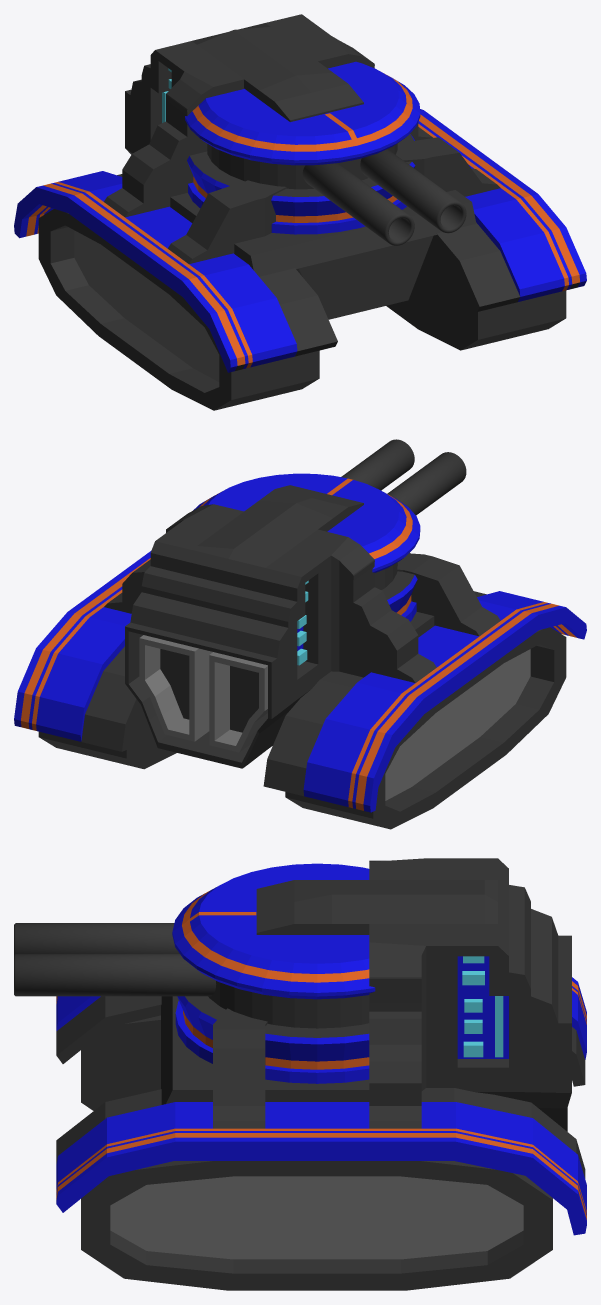
The model's file is Tanks.fbx.
3 views of the same model, one above another, from view 1: azimuth 30°, elevation 25°; view 2: azimuth 150°, elevation 25°; view 3: azimuth 270°, elevation 25° (orthographic). The views are drawn at different scales.
Visible parts, largest first — view 1: TankTop, TankDown.001, CanonG, CanonD; view 2: TankTop, TankDown.001, CanonG, CanonD; view 3: TankTop, TankDown.001, CanonD, CanonG.
Part boxes in pixels (left/top/right/bottom): TankTop: left=14, top=14, right=586, bottom=372; TankDown.001: left=38, top=209, right=566, bottom=410; CanonG: left=302, top=163, right=414, bottom=245; CanonD: left=360, top=149, right=466, bottom=233; TankTop: left=14, top=473, right=586, bottom=812; TankDown.001: left=38, top=627, right=566, bottom=829; CanonG: left=387, top=452, right=466, bottom=515; CanonD: left=341, top=439, right=414, bottom=490; TankTop: left=56, top=858, right=586, bottom=1235; TankDown.001: left=81, top=1015, right=552, bottom=1290; CanonD: left=14, top=954, right=216, bottom=996; CanonG: left=14, top=923, right=179, bottom=954.
Size of what is drawn, in the model's own units: 71.9 by 46.67 by 81.85.
